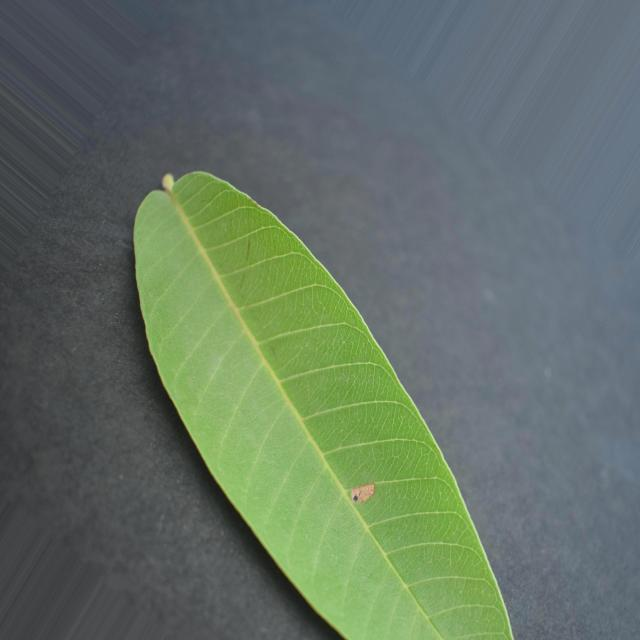Dot: (134, 172, 511, 639)
